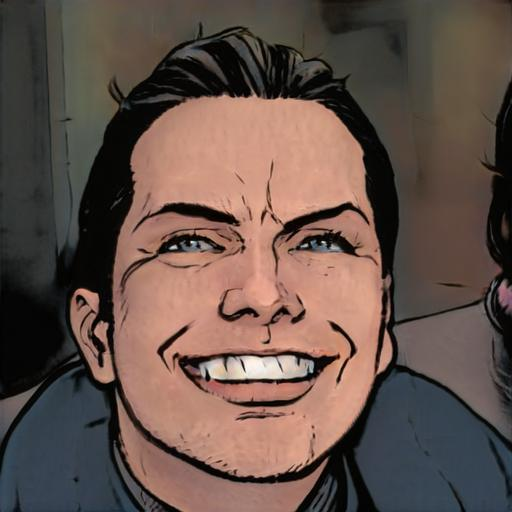Human: (6, 1, 512, 512)
